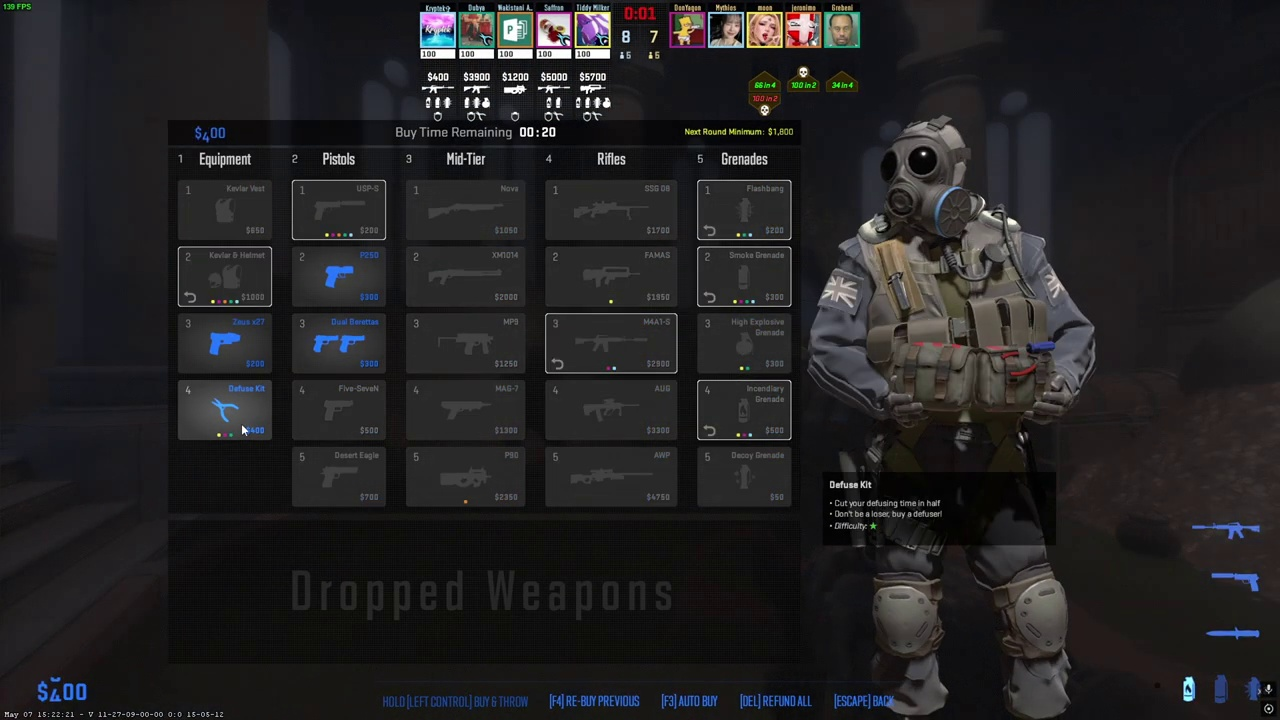CT: (847, 122, 1078, 720)
